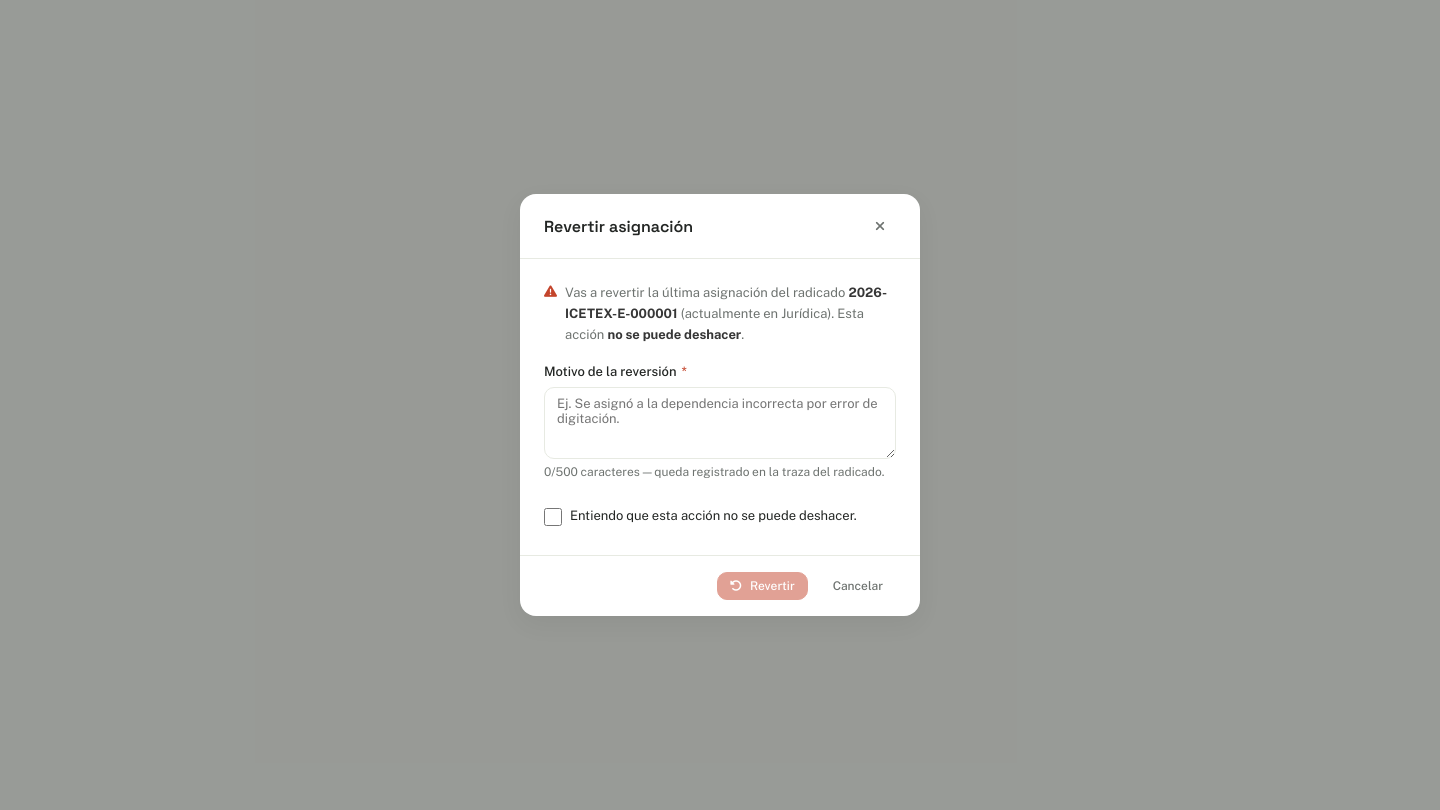
Test: RevertirModal › el botón Revertir está deshabilitado hasta marcar la casilla de confirmación
Expected: the 1st button named "revertir" is disabled, top-left (717, 572), bottom-right (808, 600)
Click the checkbox at (553, 517), box top-left (544, 508), bottom-right (562, 526)
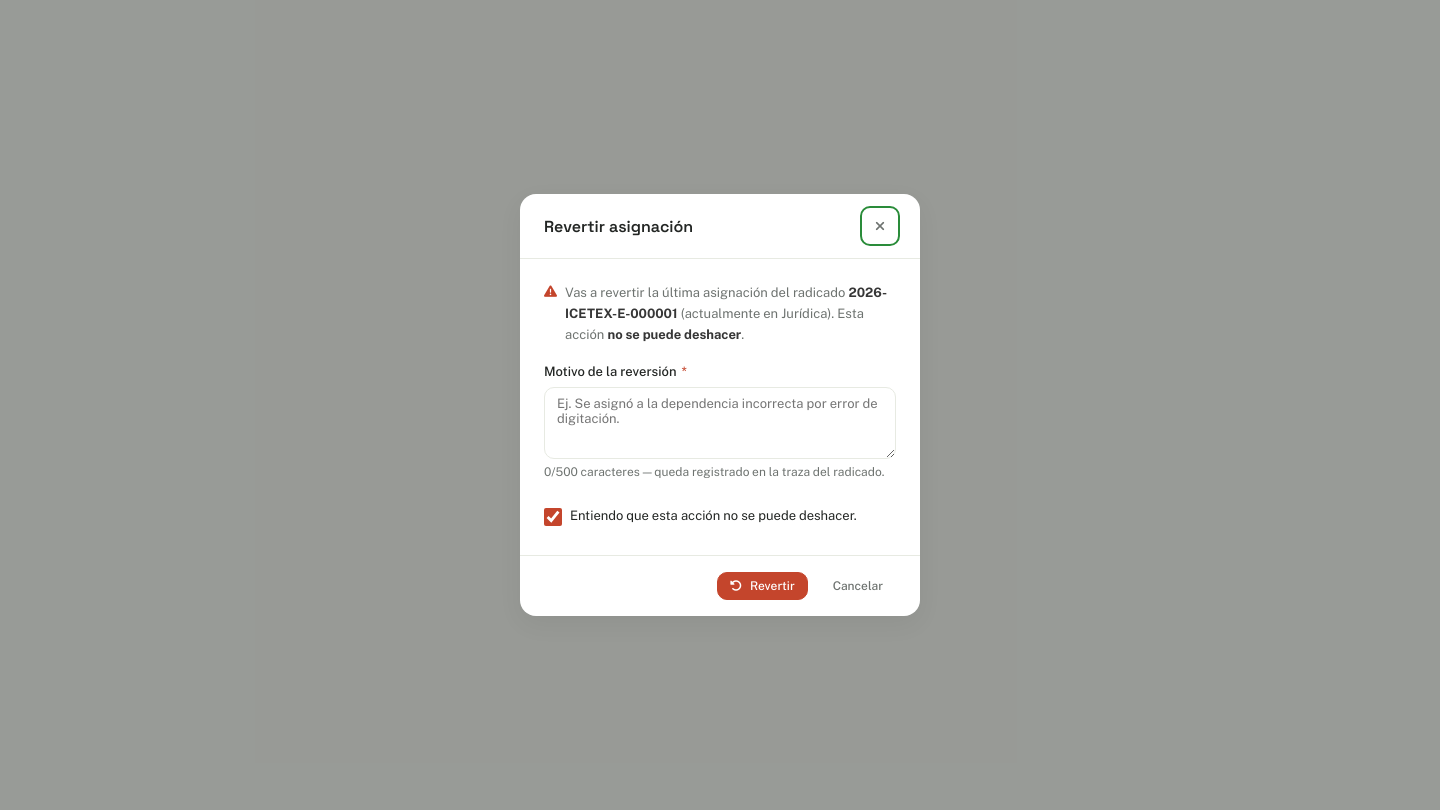
Now the 1st button named "revertir" is enabled, box top-left (717, 572), bottom-right (808, 600)
